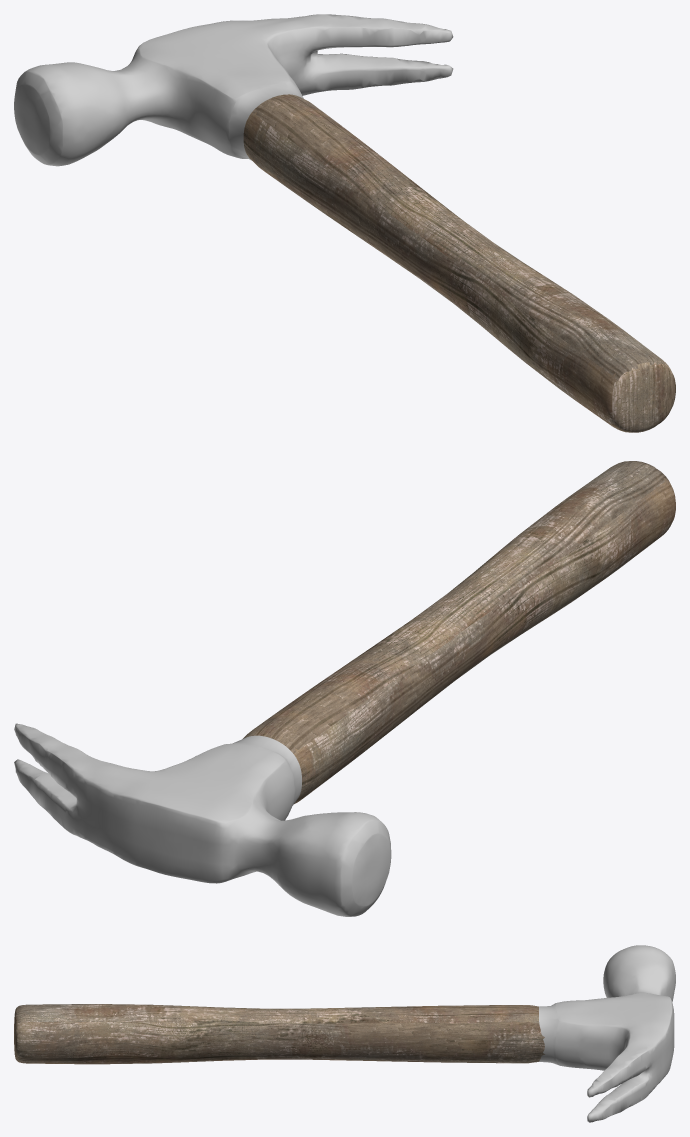
The model's file is SM_Hammer.fbx.
The picture shows the model from 3 angles, top to bottom: view 1: azimuth 30°, elevation 25°; view 2: azimuth 150°, elevation 25°; view 3: azimuth 270°, elevation 25°; orthographic projection. The views are drawn at different scales.
Visible parts, largest first — view 1: SM_Hammer_LOD0; view 2: SM_Hammer_LOD0; view 3: SM_Hammer_LOD0.
Boxes of the visible parts, x1,y1,x2,y2 form: SM_Hammer_LOD0: (14,14,675,432); SM_Hammer_LOD0: (14,461,675,916); SM_Hammer_LOD0: (14,945,675,1122).
Size of the model in its own units: 19.01 by 39.47 by 4.3.
